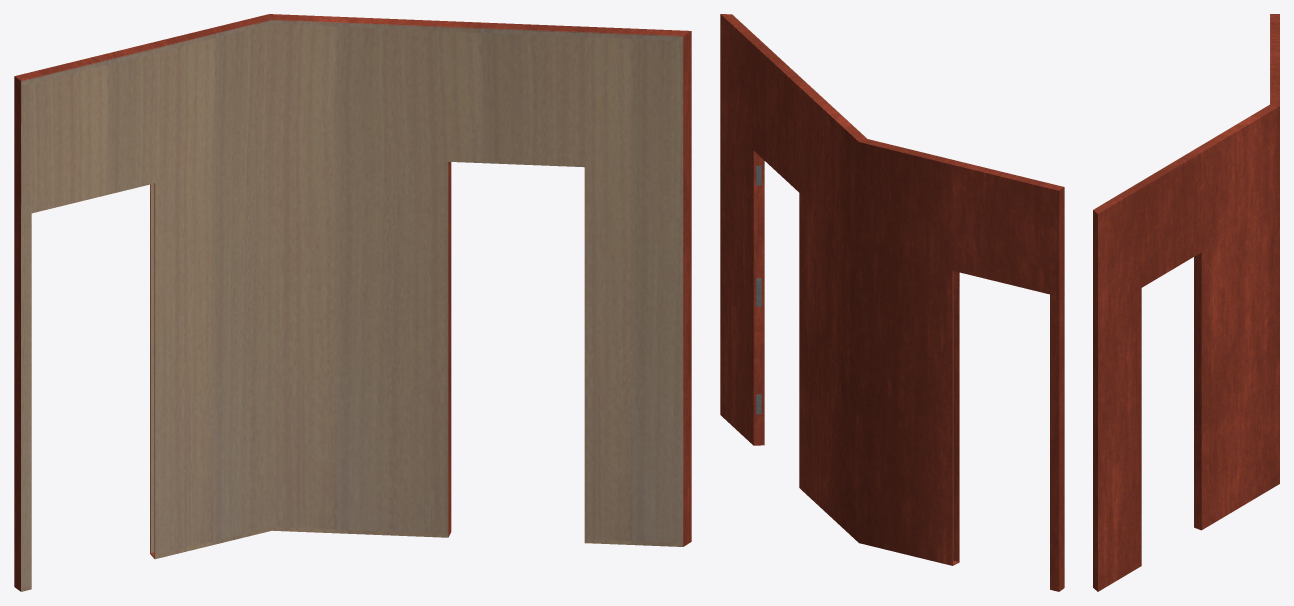
File: SM_Kitchen_Wall.fbx
The picture shows the model from 3 angles, left to right: view 1: azimuth 30°, elevation 25°; view 2: azimuth 150°, elevation 25°; view 3: azimuth 270°, elevation 25°; orthographic projection. The views are drawn at different scales.
Visible parts, largest first — view 1: SM_Kitchen_Wall; view 2: SM_Kitchen_Wall; view 3: SM_Kitchen_Wall.
Boxes of the visible parts, left/top/right/bottom form: SM_Kitchen_Wall: left=14, top=14, right=691, bottom=591; SM_Kitchen_Wall: left=720, top=14, right=1064, bottom=591; SM_Kitchen_Wall: left=1093, top=14, right=1279, bottom=591.
Size of the model in its own units: 335 by 132 by 295.
Materials: 1 (1 with a texture image).
